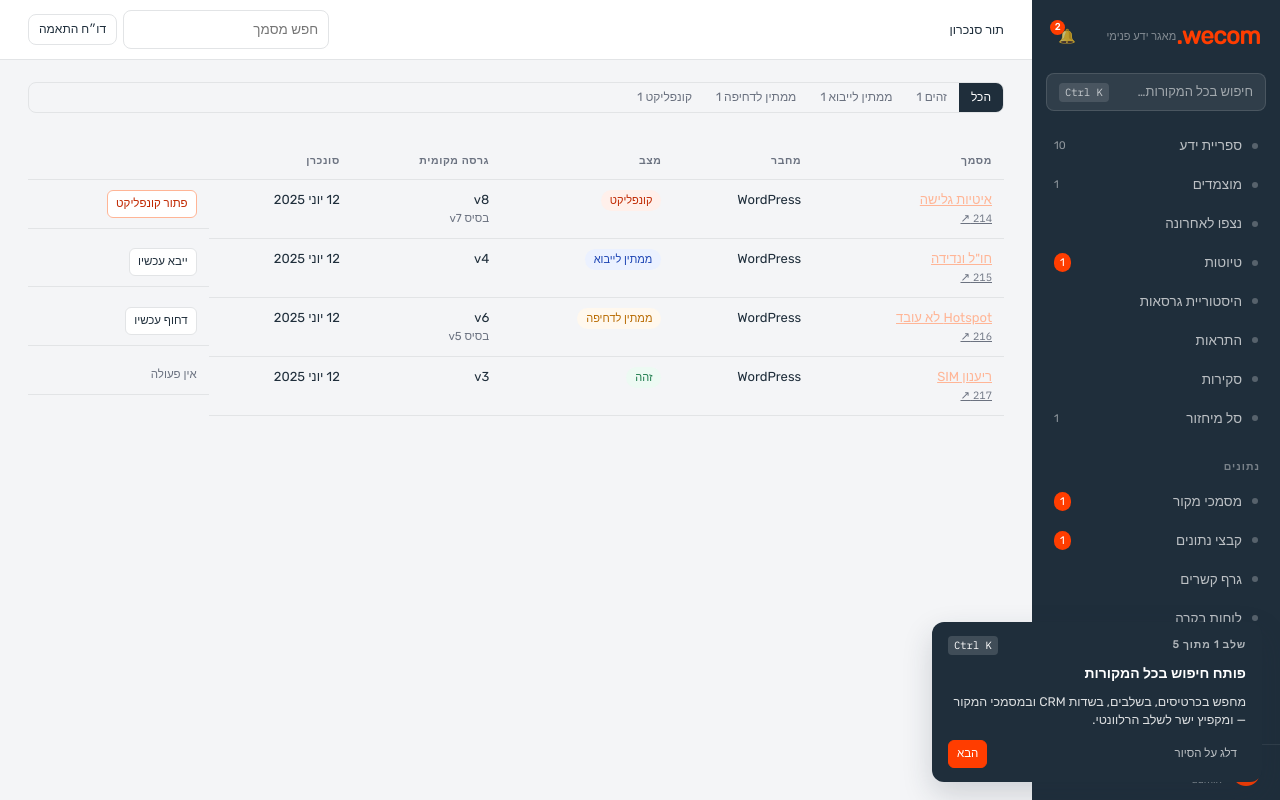
Test: sync · queue › surfaces a sync that returned errors as a failure
Click the button "ייבא עכשיו": (163, 262) top-left (129, 248), bottom-right (197, 276)
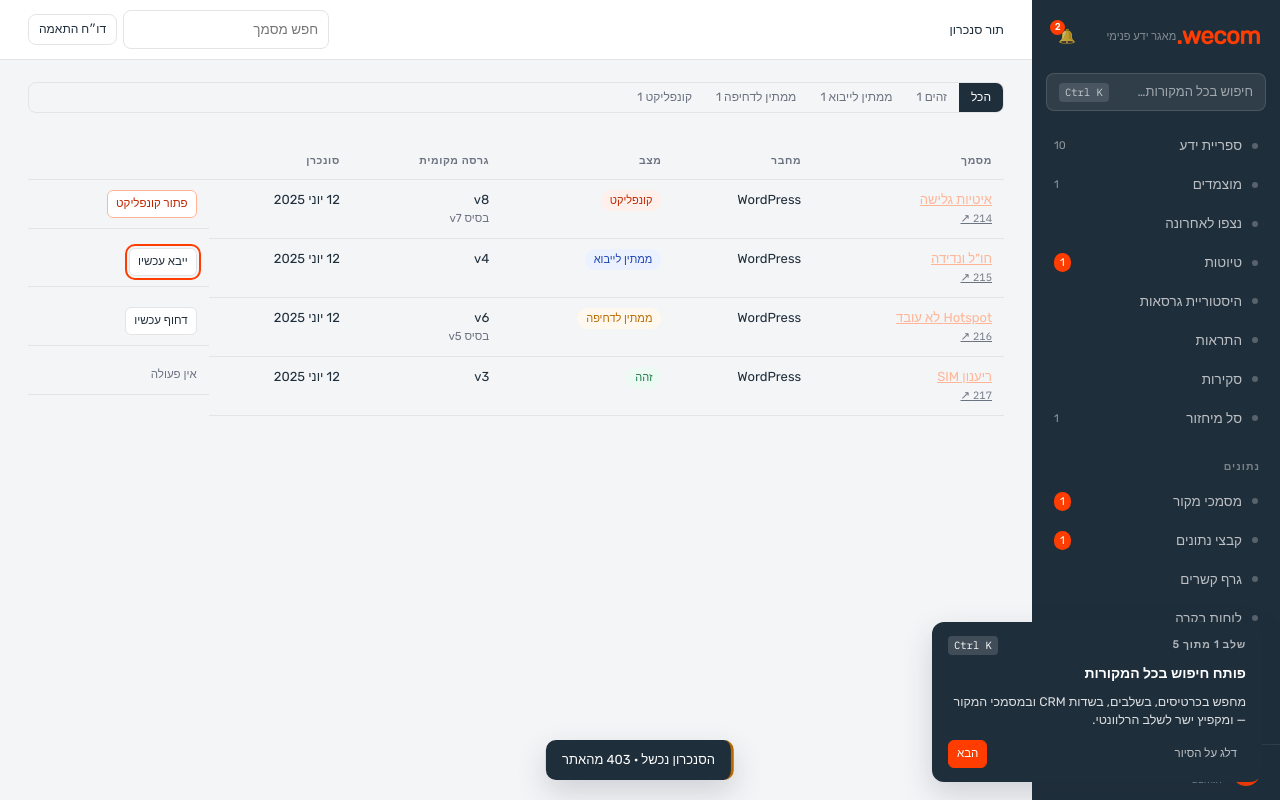
Expected: the text "הסנכרון נכשל · 403 מהאתר" is shown, top-left (562, 750), bottom-right (715, 770)
